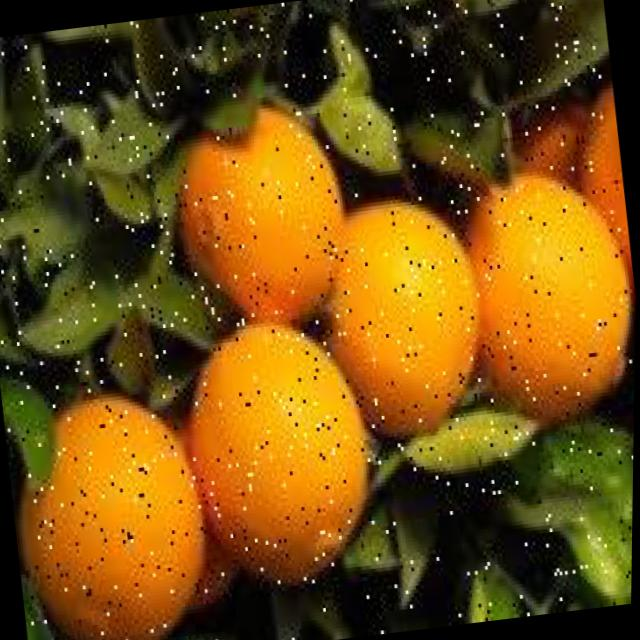orange: (171, 308, 391, 602), (6, 383, 223, 640), (449, 161, 638, 429), (309, 190, 497, 442), (164, 98, 357, 334)
